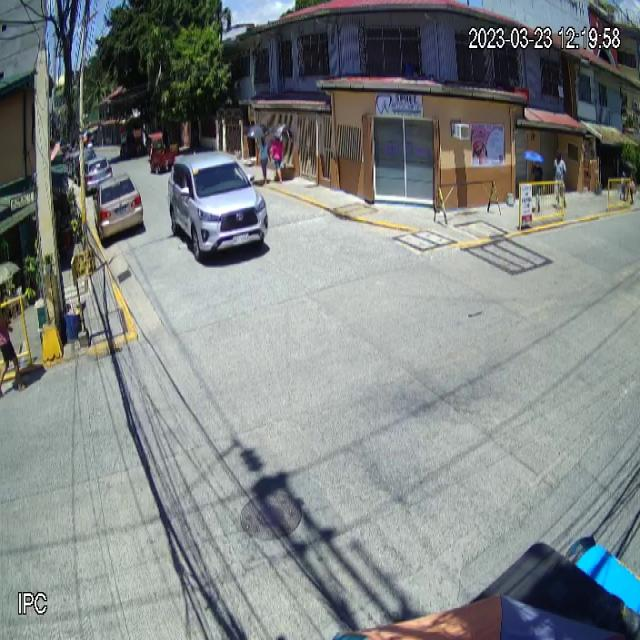Car: (167, 147, 269, 262), (93, 172, 144, 244)
